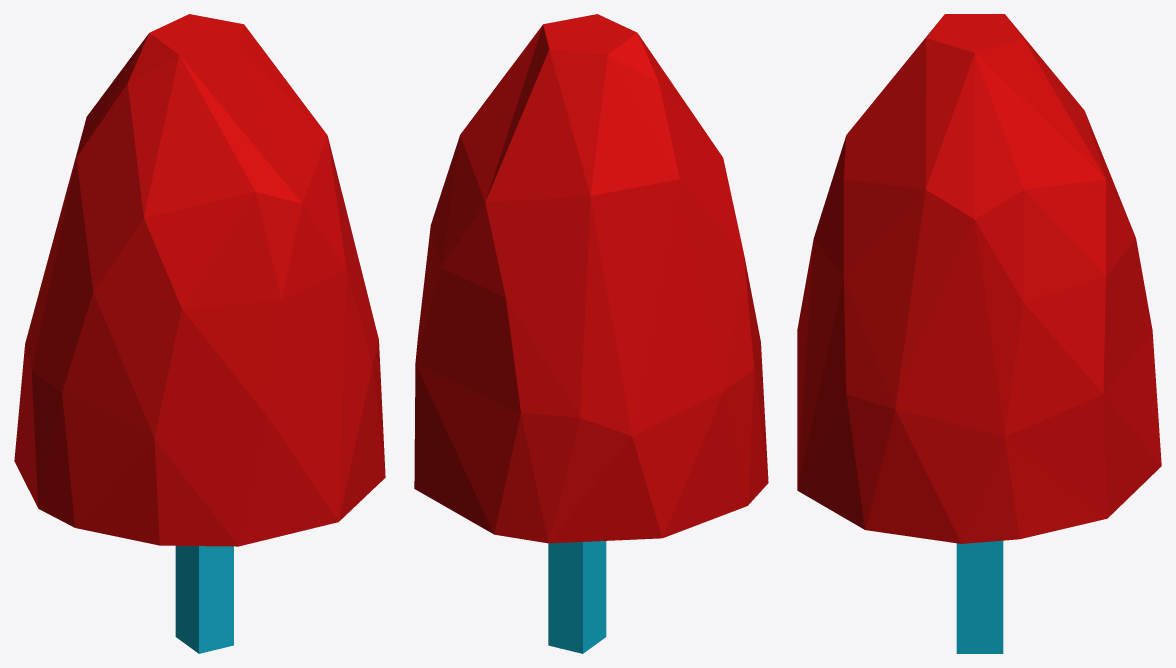
File: Champi.FBX
The picture shows the model from 3 angles, left to right: view 1: azimuth 30°, elevation 25°; view 2: azimuth 150°, elevation 25°; view 3: azimuth 270°, elevation 25°; orthographic projection.
Visible parts, largest first — view 1: GeoSphere010; view 2: GeoSphere010; view 3: GeoSphere010.
Boxes of the visible parts, x1=… form: GeoSphere010: x1=14, y1=14, x2=385, y2=653; GeoSphere010: x1=414, y1=14, x2=768, y2=653; GeoSphere010: x1=797, y1=14, x2=1161, y2=653.
Size of the model in its own units: 0.0471 by 0.0855 by 0.0463.
